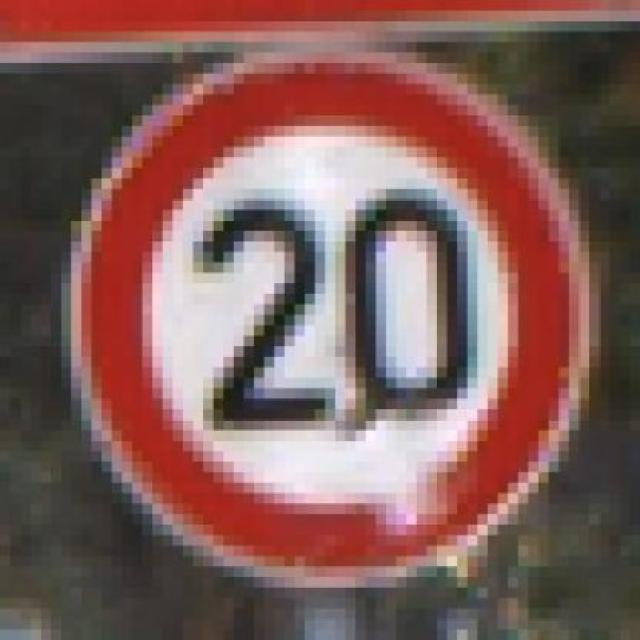forb_speed_over_20: (80, 61, 582, 582)
